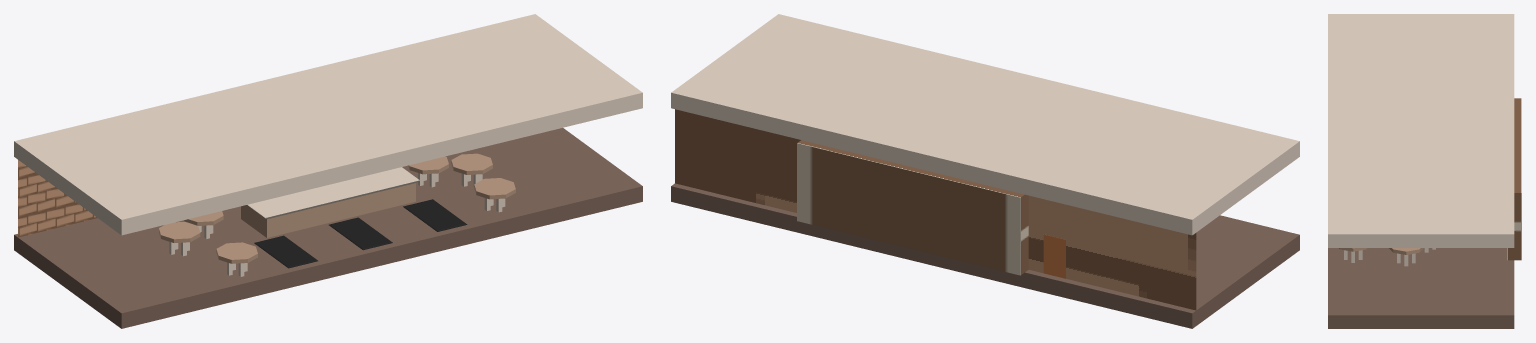
The model's file is stage15.glb.
3 views of the same model, side by side, from view 1: azimuth 30°, elevation 25°; view 2: azimuth 150°, elevation 25°; view 3: azimuth 270°, elevation 25° (orthographic). The views are drawn at different scales.
Visible parts, largest first — view 1: Ground.001, Ground, Countertop, Woodwall, MatR, MatC, MatL, Table.003, Table.002, Table.001, Table.004, Table.005 (+1 smaller); view 2: Ground.001, Woodwall, Wall, Ground, Door; view 3: Ground.001, Ground, Wall, Table.004, Table.003.
Part boxes in pixels (x1,y1,x2,y2): Ground.001: [14, 14, 642, 235]; Ground: [14, 128, 642, 328]; Countertop: [241, 167, 419, 237]; Woodwall: [18, 160, 97, 237]; MatR: [403, 199, 467, 231]; MatC: [329, 217, 392, 250]; MatL: [254, 235, 317, 268]; Table.003: [474, 178, 515, 212]; Table.002: [216, 242, 257, 276]; Table.001: [159, 221, 200, 256]; Table.004: [451, 153, 492, 186]; Table.005: [408, 156, 448, 187]; Ground.001: [671, 14, 1299, 235]; Woodwall: [675, 109, 1196, 310]; Wall: [797, 140, 1028, 275]; Ground: [671, 183, 1299, 328]; Door: [1043, 234, 1065, 278]; Ground.001: [1328, 14, 1514, 247]; Ground: [1328, 248, 1514, 328]; Wall: [1507, 98, 1521, 260]; Table.004: [1389, 248, 1423, 266]; Table.003: [1339, 248, 1367, 262].
Bounding box in the file's own units: 70 × 14 × 26.
Materials: 12 (5 with a texture image).
